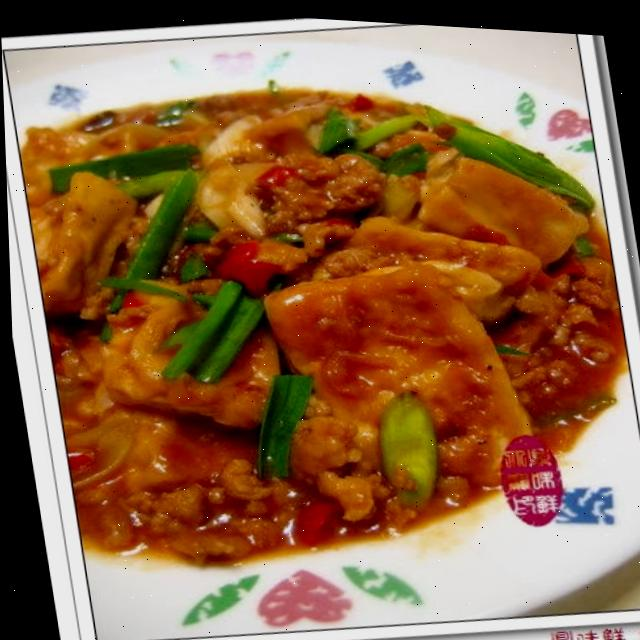豆腐料理: (4, 11, 640, 627)
